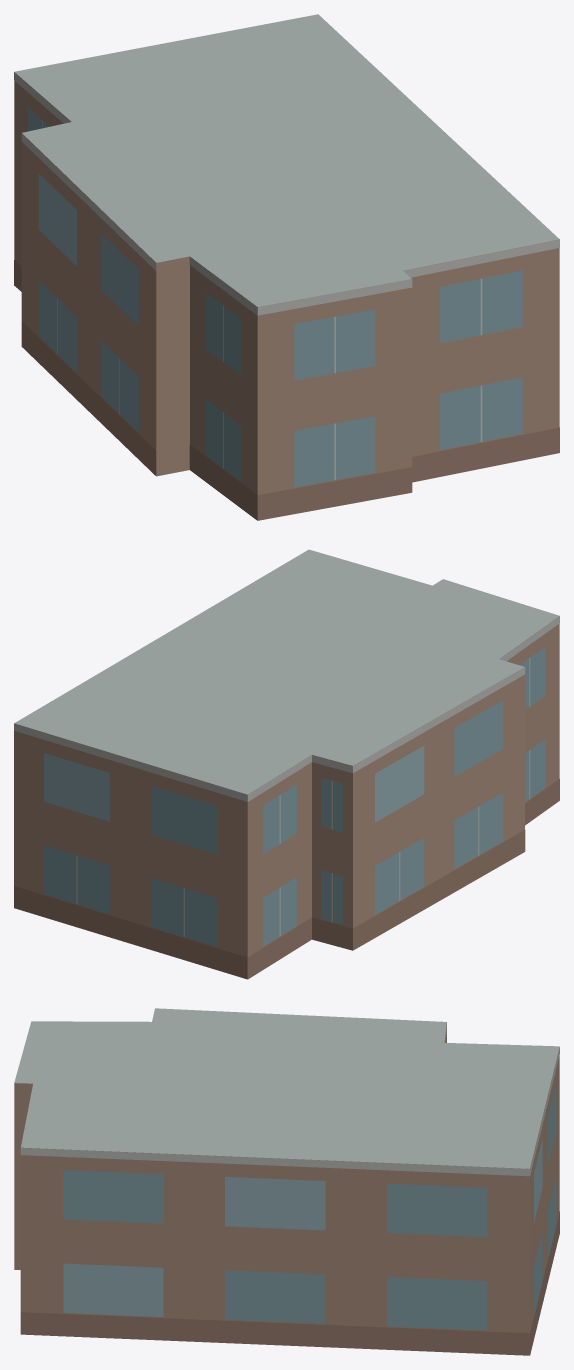
File: survey-upis-32669535.glb
3 views of the same model, one above another, from view 1: azimuth 30°, elevation 25°; view 2: azimuth 150°, elevation 25°; view 3: azimuth 270°, elevation 25° (orthographic). The views are drawn at different scales.
Parts seen in each view (by area): view 1: survey-upis-32669535.tmp; view 2: survey-upis-32669535.tmp; view 3: survey-upis-32669535.tmp.
Boxes of the visible parts, x1=… form: survey-upis-32669535.tmp: x1=14, y1=14, x2=559, y2=520; survey-upis-32669535.tmp: x1=14, y1=549, x2=559, y2=979; survey-upis-32669535.tmp: x1=14, y1=1008, x2=559, y2=1355.
Bounding box in the file's own units: 11.26 × 6.1 × 16.16.
